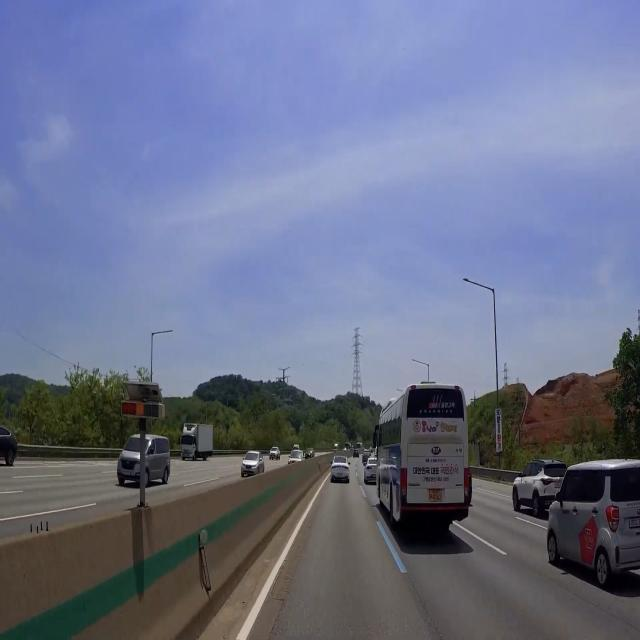car: (426, 483, 446, 505), (625, 513, 640, 532), (121, 466, 136, 479), (550, 479, 564, 490), (334, 472, 346, 479), (244, 467, 252, 472), (184, 453, 189, 458), (271, 454, 275, 460)
